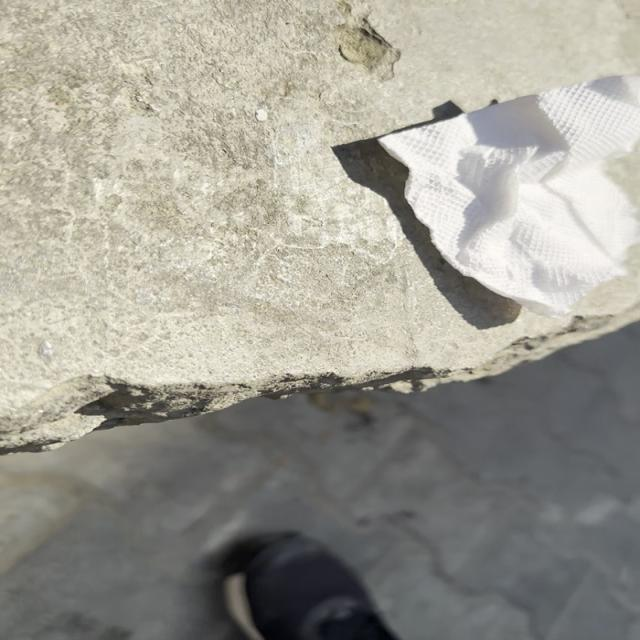tissue: (376, 68, 640, 316)
